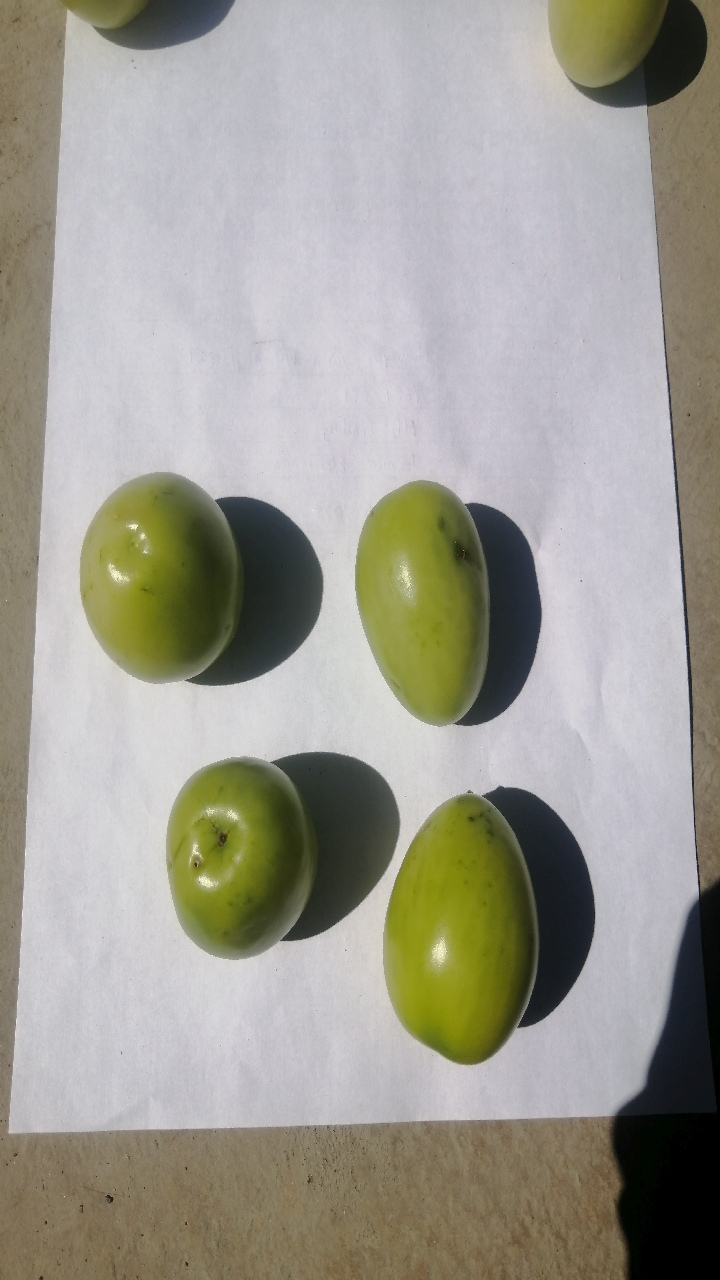tomateVerde: (328, 459, 537, 775), (358, 768, 563, 1075), (58, 446, 260, 703), (137, 723, 332, 983)
